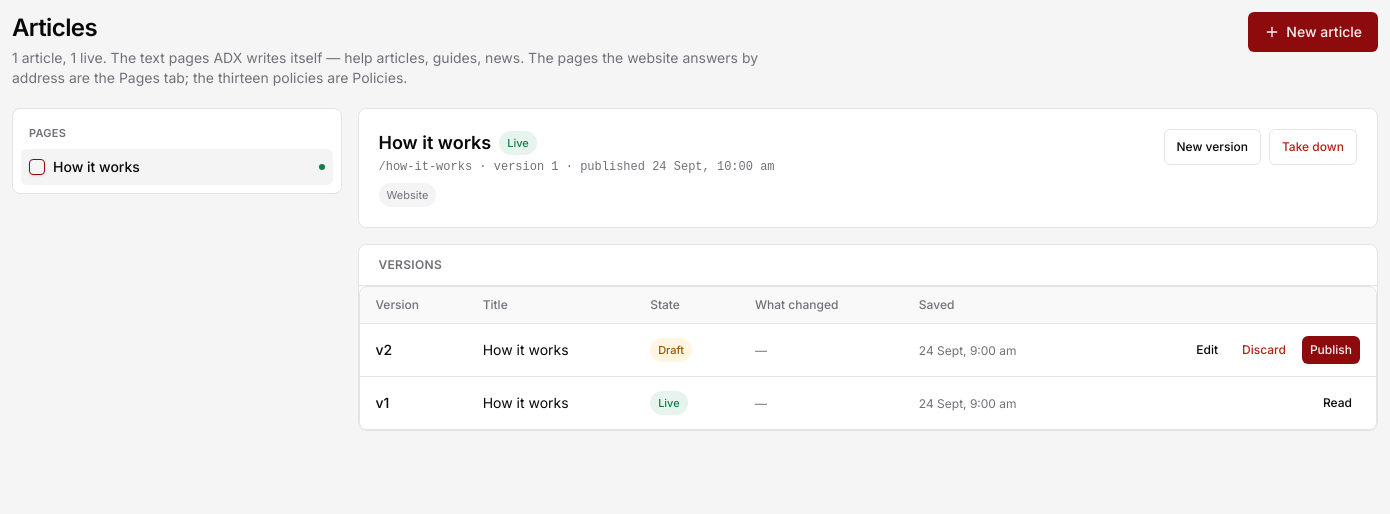
Test: the rail's selection › shuts publishing without content.approve
What coordinates should you click on to do the following:
click the checkbox with test id "content-select-how-it-works"
I would click on:
 (37, 167)
Its box is [29,159,45,175].
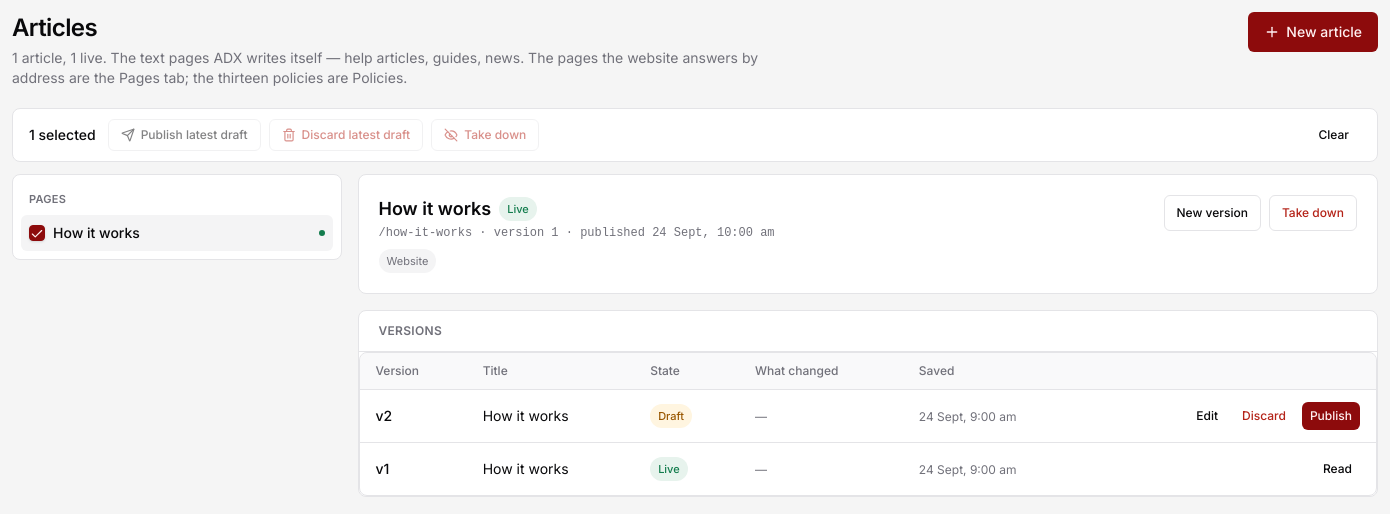
Expected: the button with test id "bulk-publish" is disabled, [108,119,261,151]
